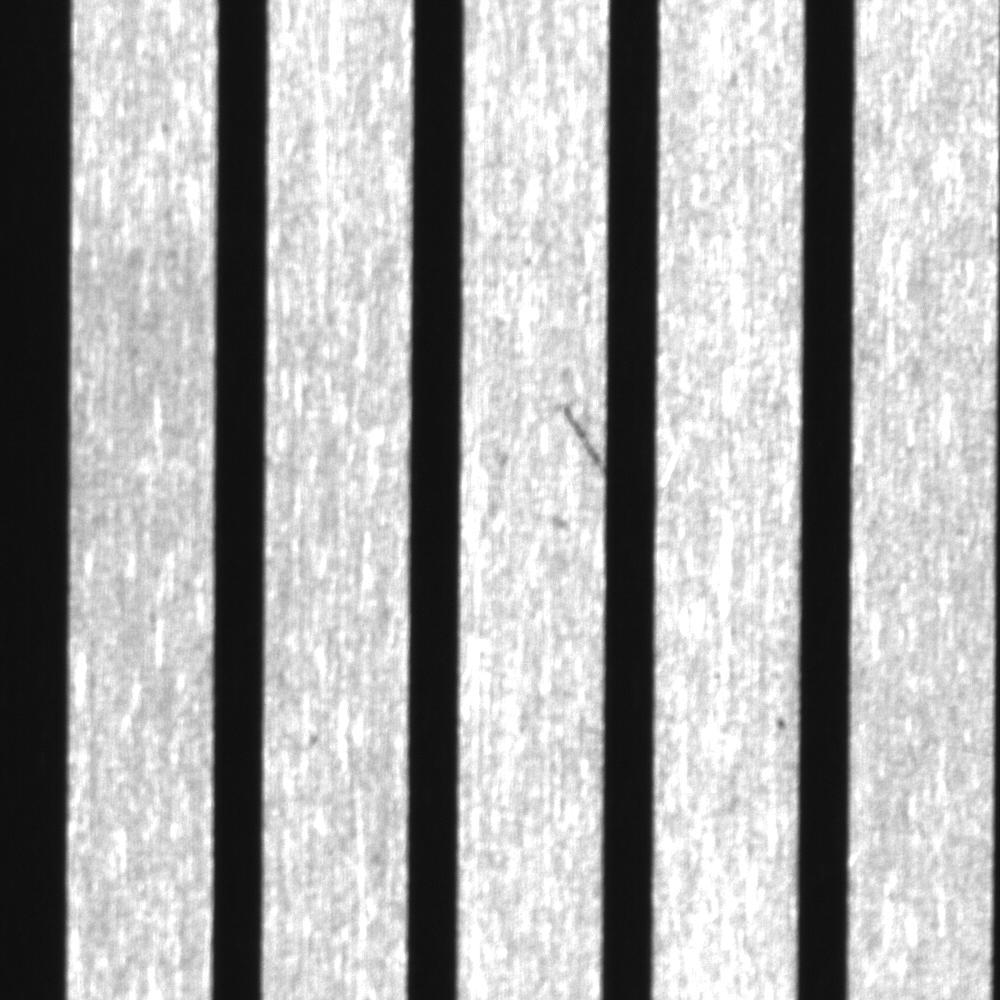Pinhole: (762, 700, 800, 750), (294, 721, 333, 758)
Scar: (549, 380, 606, 496)
